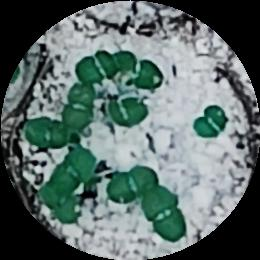Basil: (137, 182, 184, 242), (51, 148, 99, 189), (115, 52, 167, 87), (62, 84, 102, 129), (112, 162, 158, 201), (43, 181, 79, 225), (25, 117, 73, 149), (77, 47, 119, 80), (104, 97, 150, 126), (196, 104, 226, 140)
